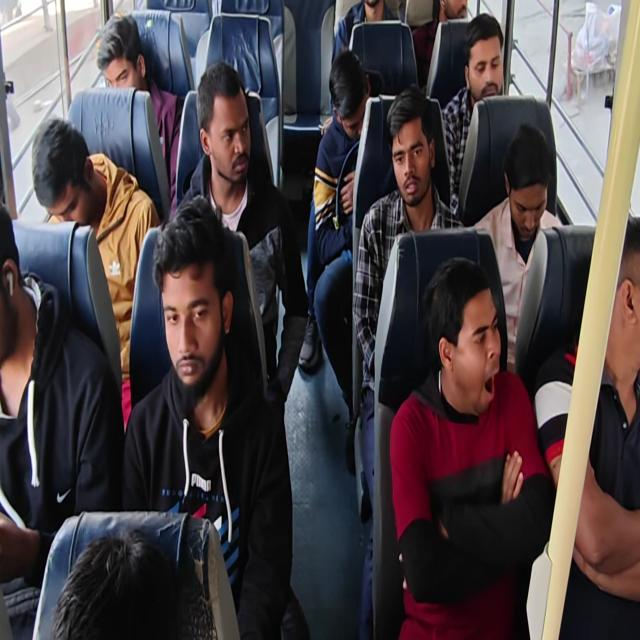person: (2, 1, 638, 638), (122, 194, 300, 638), (388, 256, 554, 638), (0, 202, 125, 638), (352, 85, 464, 521), (534, 212, 640, 638), (178, 61, 309, 404), (31, 116, 161, 432), (472, 122, 564, 374), (311, 49, 372, 429), (95, 11, 185, 215), (50, 527, 179, 639), (441, 13, 505, 216), (326, 0, 400, 134), (412, 0, 468, 89), (331, 0, 400, 65)
